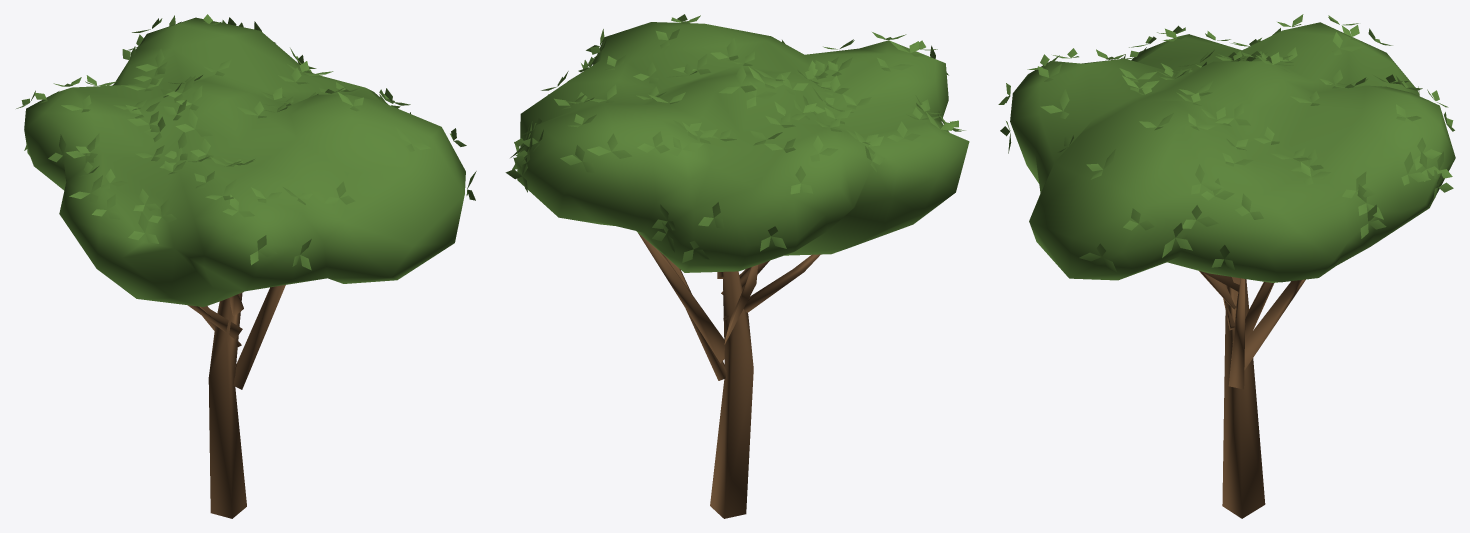
Rendered from tropical-b-light.glb.
3 renders of one model, left to right at view 1: azimuth 30°, elevation 25°; view 2: azimuth 150°, elevation 25°; view 3: azimuth 270°, elevation 25°, orthographic. The views are drawn at different scales.
Parts seen in each view (by area): view 1: tropical-b.001; view 2: tropical-b.001; view 3: tropical-b.001.
Part boxes in pixels (x1,y1,x2,y2): tropical-b.001: (16,14,476,518); tropical-b.001: (505,14,969,518); tropical-b.001: (998,14,1455,518).
Size of the model in its own units: 1.72 by 1.94 by 1.8.
